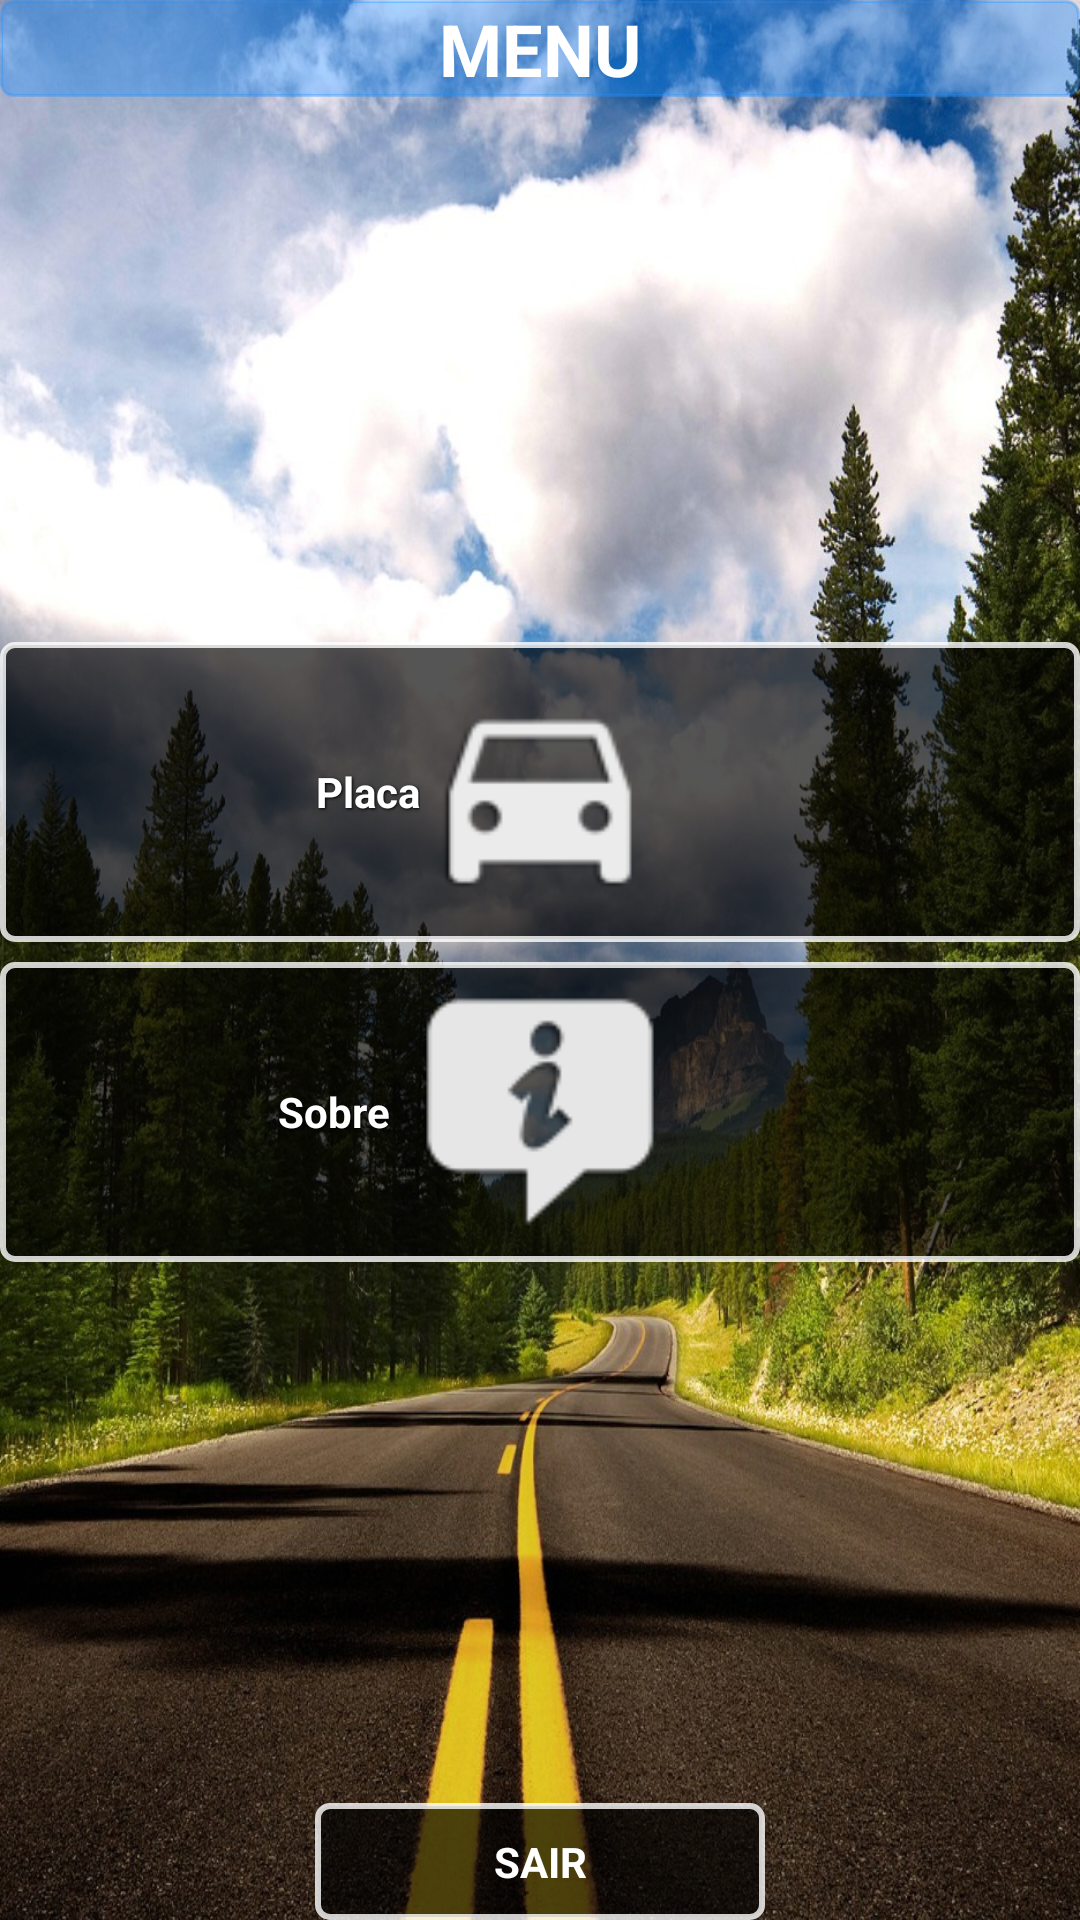

Named icons in this screenshot (1080 × 1920) and their centers, [x,y]:
car: [540,792]
